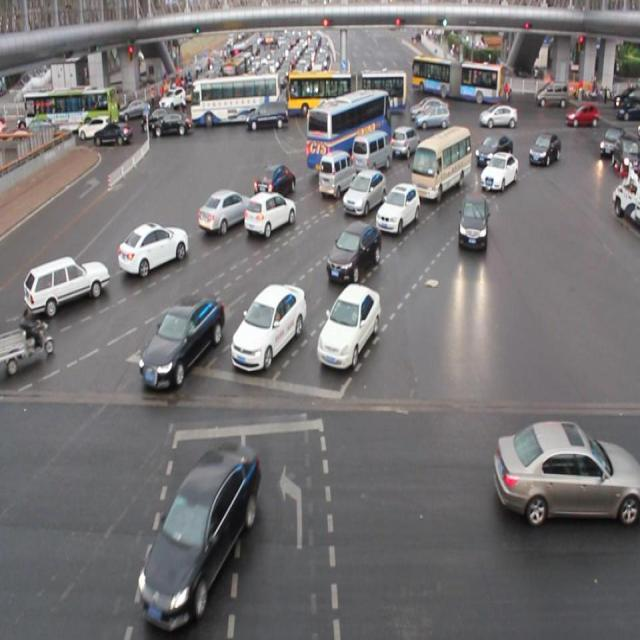car: (140, 440, 262, 627), (492, 416, 640, 528), (140, 298, 227, 387), (230, 282, 306, 373), (317, 284, 383, 377), (23, 254, 109, 318), (117, 221, 189, 276), (326, 225, 382, 285), (196, 186, 254, 235), (243, 187, 296, 238), (376, 182, 420, 239), (342, 170, 387, 214), (457, 191, 487, 252), (254, 162, 296, 203), (479, 152, 519, 194), (474, 134, 512, 167), (526, 131, 560, 165), (390, 125, 419, 161), (424, 133, 454, 167)
truck: (412, 128, 471, 200), (351, 130, 394, 177), (317, 151, 356, 196)
van: (306, 90, 392, 174)
